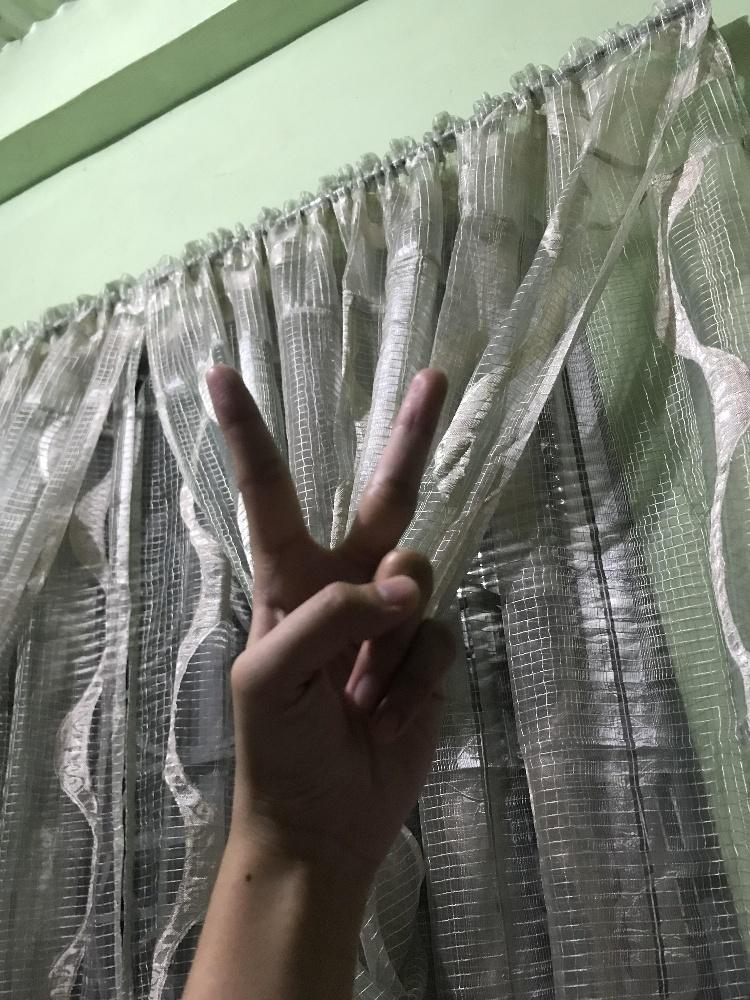v: (198, 356, 467, 861)
